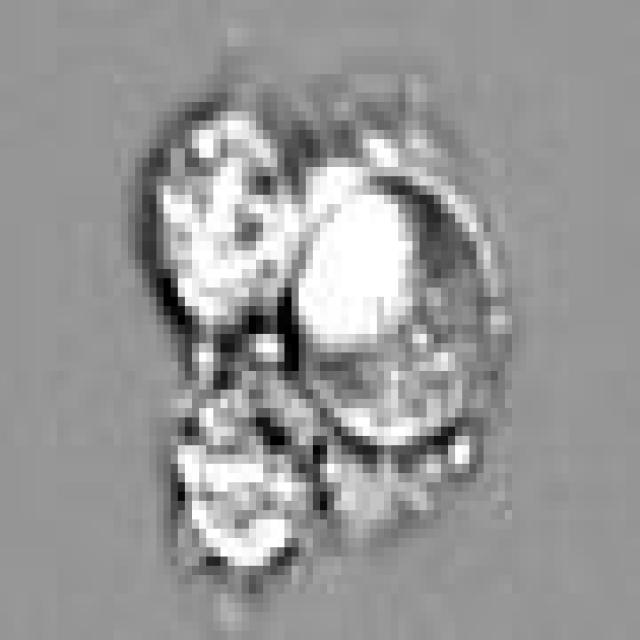Cancer Cell: (285, 167, 519, 445)
WBC: (149, 102, 306, 315), (178, 380, 327, 575)
